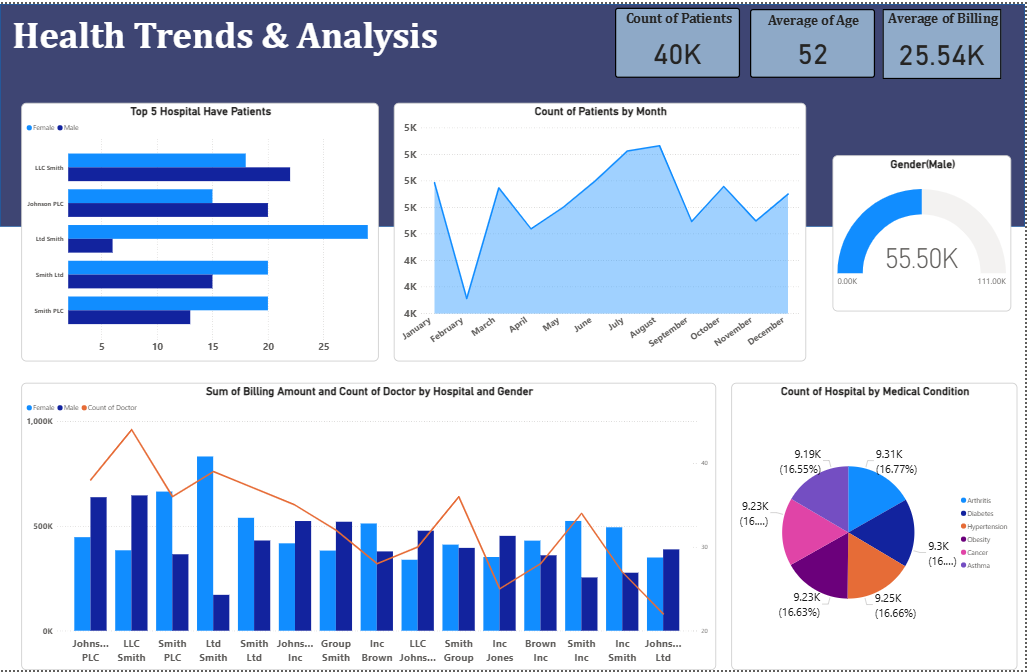

What the dashboard file says about the page in this screenshot:
{"tool":"powerbi","page":{"name":"Healthcare ","canvas":[2000,1300],"ordinal":0},"visuals":[{"type":"lineClusteredColumnComboChart","fields":{"Category":["healthcare_dataset.Hospital"],"Y":["healthcare_dataset.Billing Amount"],"Series":["healthcare_dataset.Gender"],"Y2":["healthcare_dataset.Doctor"]},"box":[41.5,739,1356.1,561],"z":0},{"type":"shape","box":[0,0,2000,434.7],"z":1000},{"type":"card","title":"Average of Billing ","fields":{"Values":["healthcare_dataset.Billing Amount"]},"box":[1722,9.8,231.7,136.6],"z":2000},{"type":"card","title":"Average of Age","fields":{"Values":["healthcare_dataset.Age"]},"box":[1463.4,9.8,243.9,134.1],"z":3000},{"type":"card","title":"Count of Patients ","fields":{"Values":["healthcare_dataset.Name"]},"box":[1200,7.3,243.9,136.6],"z":5000},{"type":"pieChart","fields":{"Category":["healthcare_dataset.Medical Condition"],"Y":["healthcare_dataset.Hospital"]},"box":[1426.8,739,558.5,561],"z":6000},{"type":"gauge","title":" Gender(Male)","fields":{"Y":["healthcare_dataset.Hospital"]},"box":[1624.4,295.1,348.8,304.9],"z":7000},{"type":"stackedAreaChart","title":"Count of Patients by Month","fields":{"Category":["healthcare_dataset.Date of Admission.Variation.Date Hierarchy.Month"],"Y":["healthcare_dataset.Name"]},"box":[768.3,192.7,804.9,504.9],"z":8000},{"type":"textbox","box":[18.3,11.7,963.3,180],"z":9000},{"type":"clusteredBarChart","title":"Top 5 Hospital Have Patients ","fields":{"Category":["healthcare_dataset.Hospital"],"Y":["healthcare_dataset.Name"],"Series":["healthcare_dataset.Gender"]},"box":[41.5,192.7,697.6,504.9],"z":10000}]}

Visuals, with their boxes in screenshot pixels (x1, y1, x2, y2), scaled from the page's 2000x1300 canvas onto the 1028x672 screenshot:
lineClusteredColumnComboChart - healthcare_dataset.Hospital x healthcare_dataset.Billing Amount: {"x1": 21, "y1": 382, "x2": 718, "y2": 671}
shape: {"x1": 0, "y1": 0, "x2": 1027, "y2": 225}
"Average of Billing " card: {"x1": 885, "y1": 5, "x2": 1004, "y2": 76}
"Average of Age" card: {"x1": 752, "y1": 5, "x2": 878, "y2": 74}
"Count of Patients " card: {"x1": 617, "y1": 4, "x2": 742, "y2": 74}
pieChart - healthcare_dataset.Medical Condition x healthcare_dataset.Hospital: {"x1": 733, "y1": 382, "x2": 1020, "y2": 671}
" Gender(Male)" gauge: {"x1": 835, "y1": 153, "x2": 1014, "y2": 310}
"Count of Patients by Month" stackedAreaChart: {"x1": 395, "y1": 100, "x2": 809, "y2": 361}
textbox: {"x1": 9, "y1": 6, "x2": 505, "y2": 99}
"Top 5 Hospital Have Patients " clusteredBarChart: {"x1": 21, "y1": 100, "x2": 380, "y2": 361}
